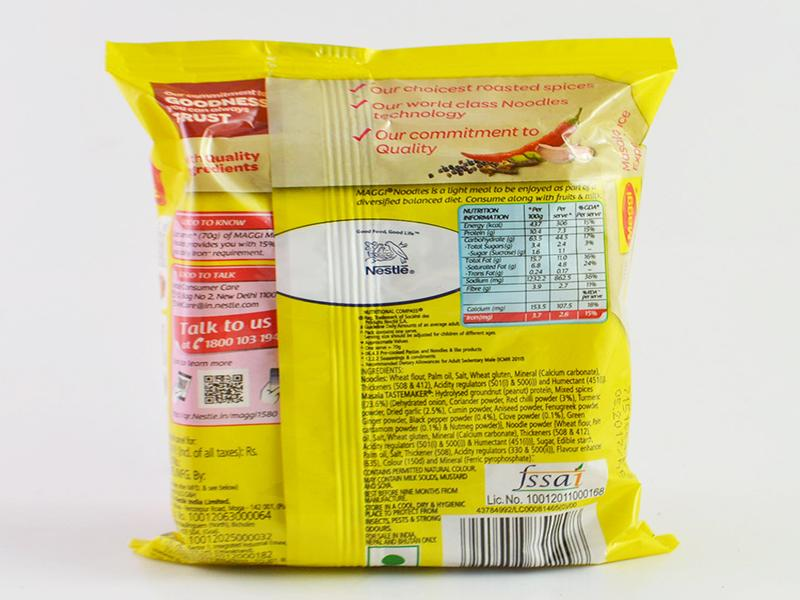maggi-small: (104, 42, 684, 564)
